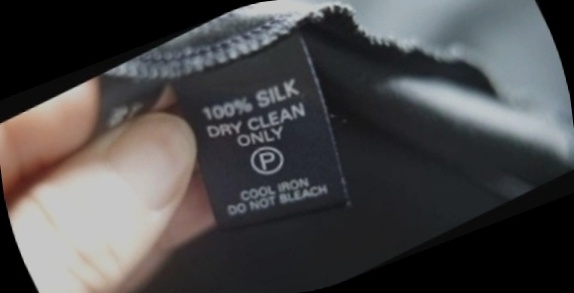dry_clean_any_solvent_except_trichloroethylene: (240, 132, 296, 186)
